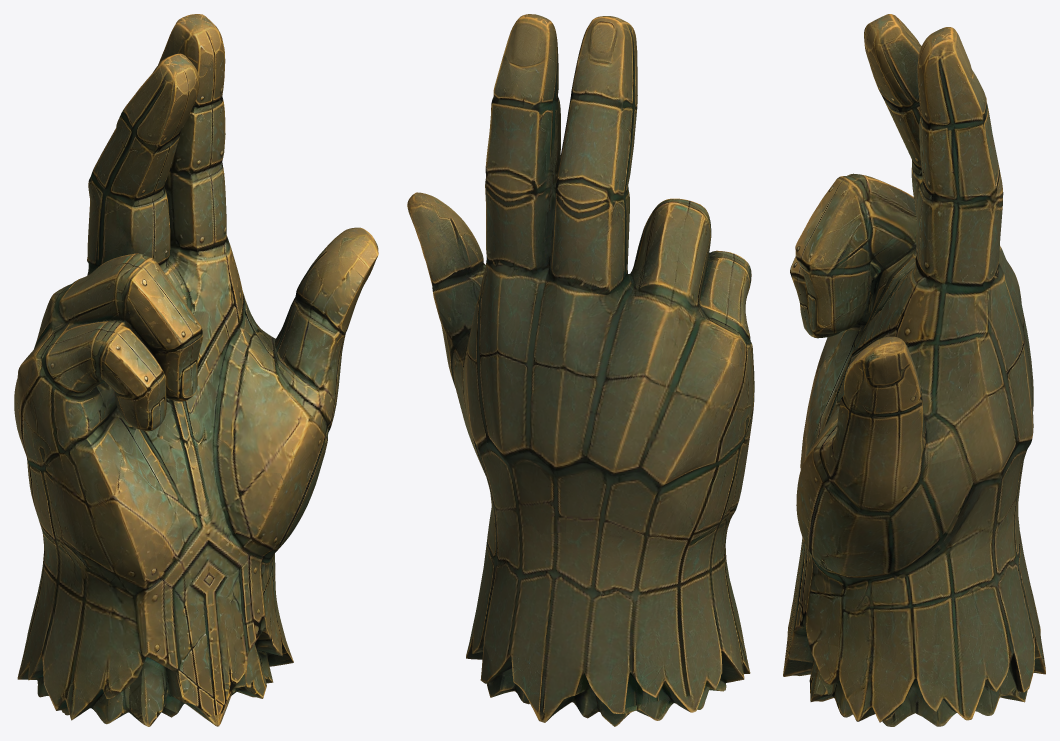
Rendered from fallen-saint-hand-benediction.glb.
3 views of the same model, side by side, from view 1: azimuth 30°, elevation 25°; view 2: azimuth 150°, elevation 25°; view 3: azimuth 270°, elevation 25° (orthographic). The views are drawn at different scales.
Visible parts, largest first — view 1: Mesh_0; view 2: Mesh_0; view 3: Mesh_0.
Boxes of the visible parts, bbox=[...] form: Mesh_0: bbox=[14, 14, 378, 726]; Mesh_0: bbox=[407, 14, 754, 726]; Mesh_0: bbox=[783, 14, 1045, 726].
Size of the model in its own units: 1.04 by 1.89 by 0.67.
Materials: 1 (1 with a texture image).
